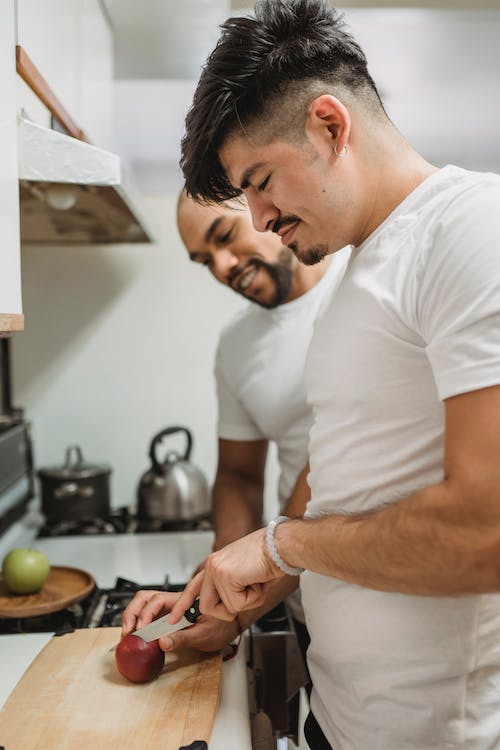knife: (106, 598, 204, 654)
